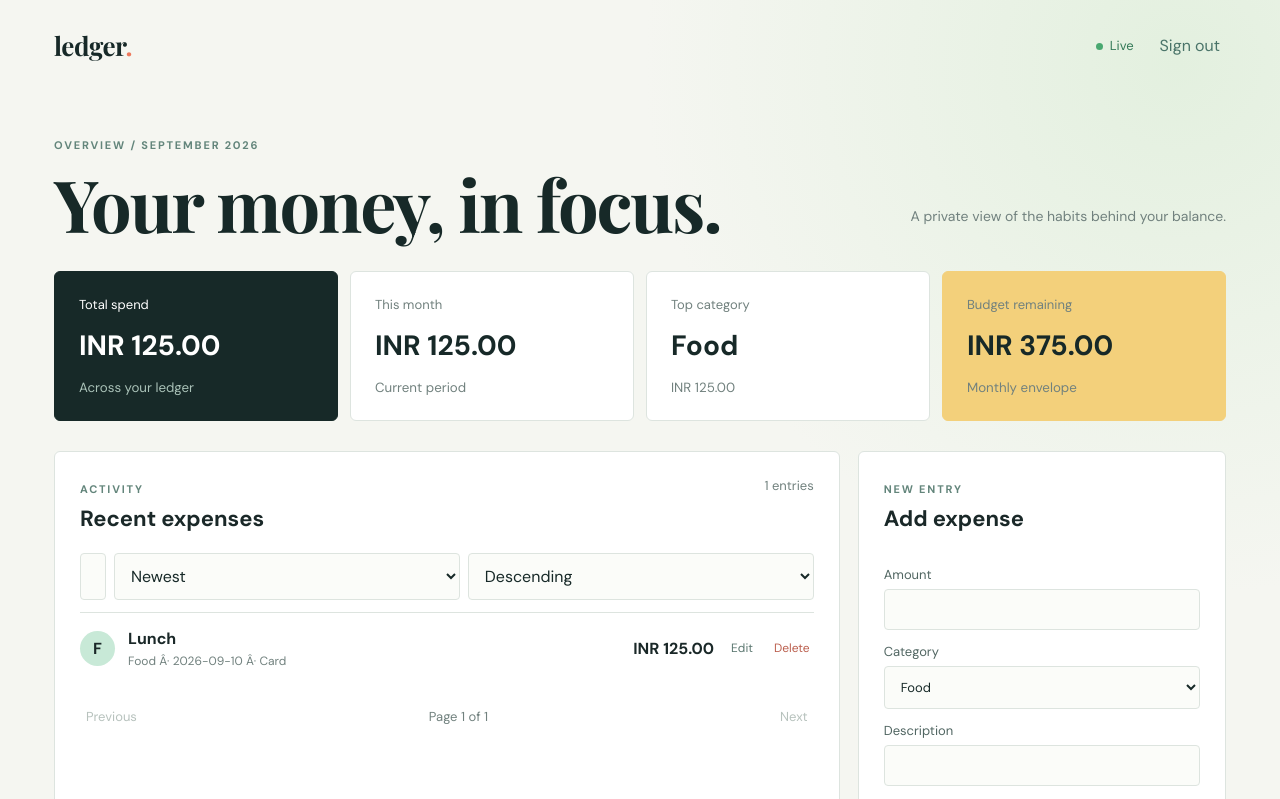
dashboard workflows › renders protected data and logs out
Check: the text "Lunch" is shown, box x1=128 y1=628 x2=176 y2=648
Check: the text "INR 125.00" below "Total spend" is shown, box x1=79 y1=327 x2=220 y2=364
Click the button "Sign out": x=1190, y=46 x1=1154 y1=29 x2=1226 y2=62
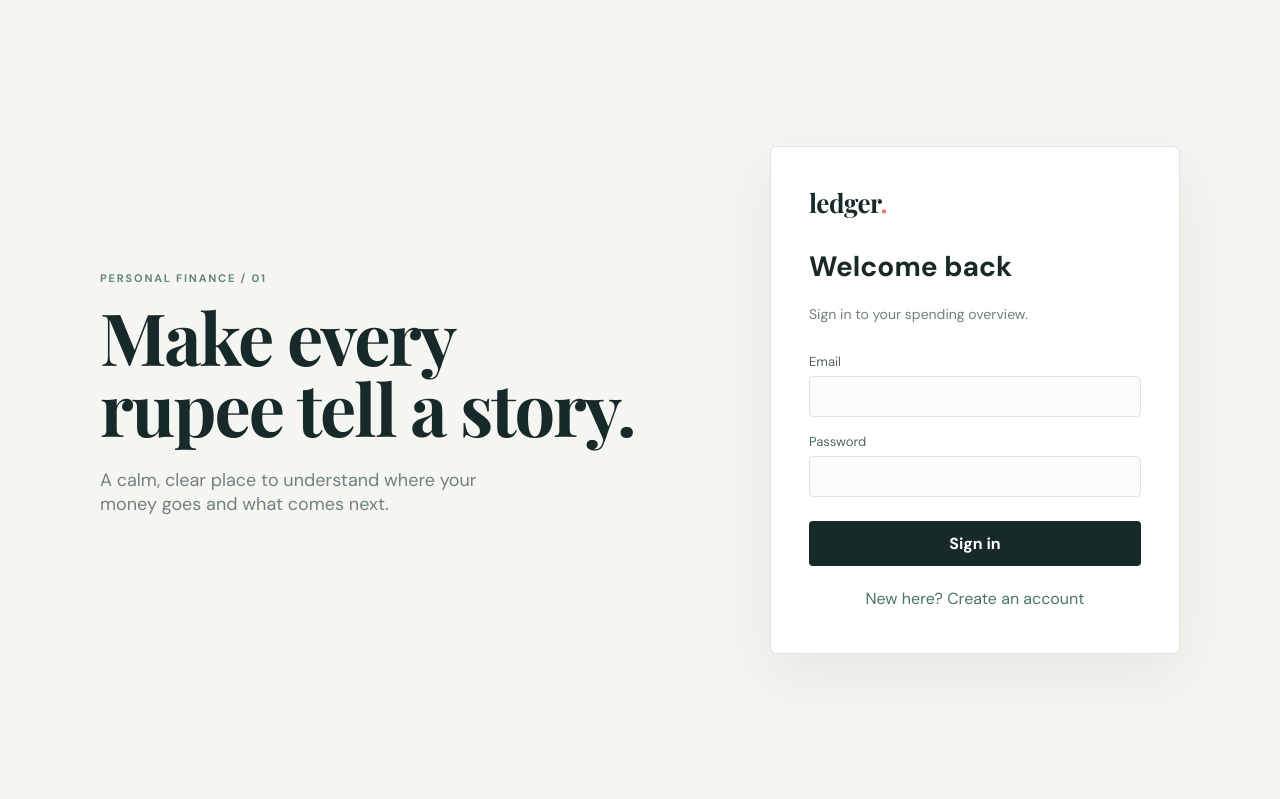
Check: the heading "Welcome back" is shown, box x1=809 y1=248 x2=1012 y2=285
